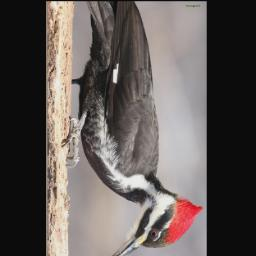Woodpecker: (65, 2, 203, 256)
